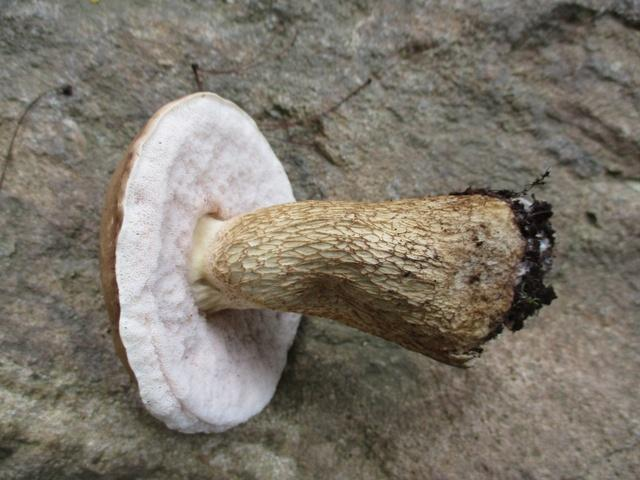Non-edible Mushroom: (97, 89, 557, 435), (97, 89, 304, 435)
